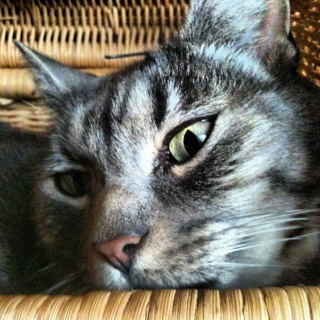Cat: (0, 0, 319, 295)
